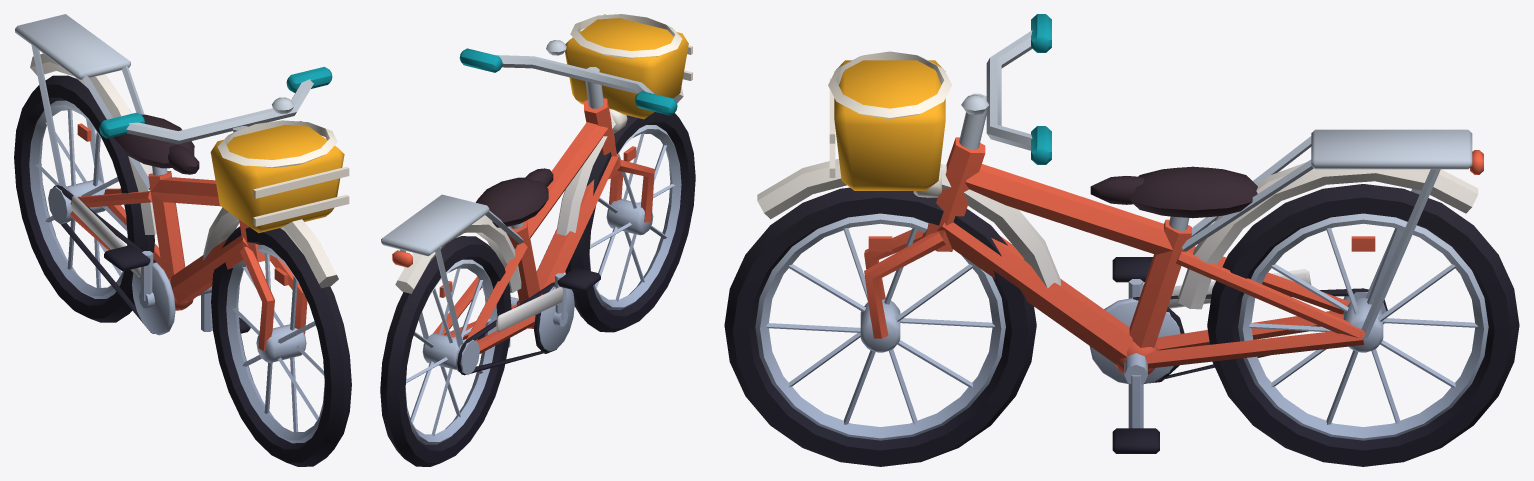
Rendered from bicycle.glb.
The picture shows the model from 3 angles, left to right: view 1: azimuth 30°, elevation 25°; view 2: azimuth 150°, elevation 25°; view 3: azimuth 270°, elevation 25°; orthographic projection. The views are drawn at different scales.
Parts seen in each view (by area): view 1: Frame, WheelF, WheelB, Crank; view 2: Frame, WheelB, WheelF, Crank; view 3: Frame, WheelB, WheelF, Crank.
Boxes of the visible parts, <box> form: Frame: <box>15,14,349,350</box>; WheelF: <box>211,226,351,466</box>; WheelB: <box>14,75,154,322</box>; Crank: <box>104,245,250,335</box>; Frame: <box>381,14,692,375</box>; WheelB: <box>380,236,511,466</box>; WheelF: <box>565,112,695,332</box>; Crank: <box>477,267,600,351</box>; Frame: <box>757,14,1483,383</box>; WheelB: <box>1207,184,1519,466</box>; WheelF: <box>724,187,1036,466</box>; Crank: <box>1089,257,1180,453</box>.
Size of the model in its own units: 0.68 by 0.92 by 1.68.
